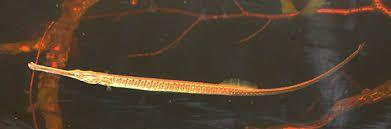Long-Snouted Pipefish: (21, 40, 374, 114)
